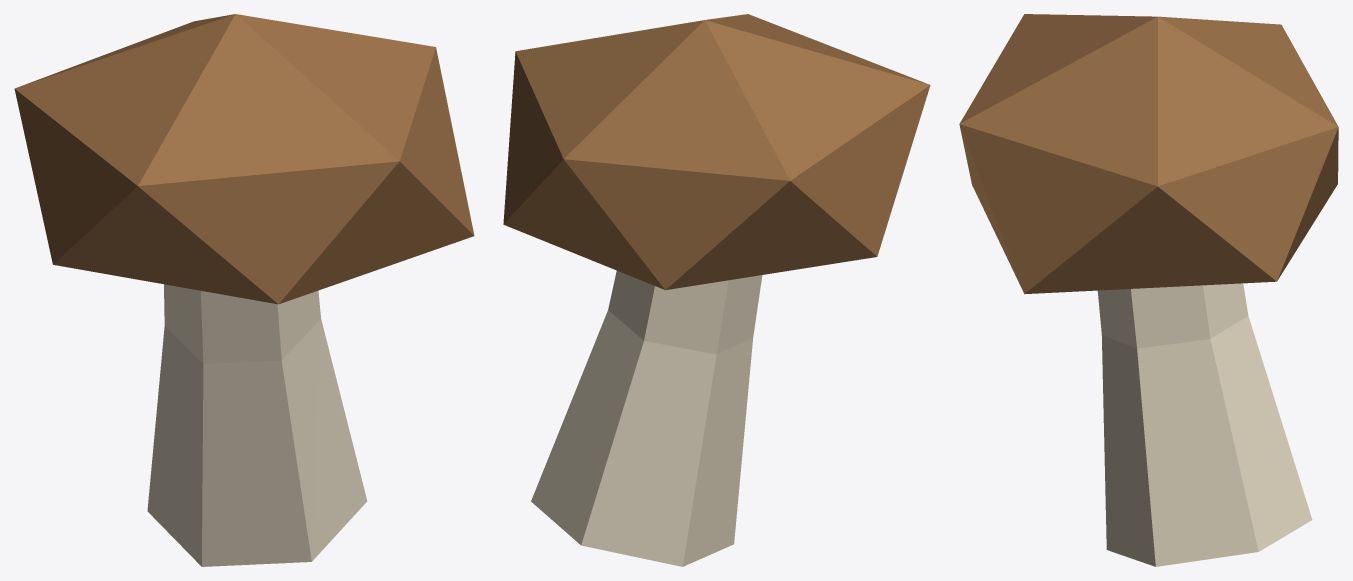
File: HS_LP_Mushroom_Brown_01.fbx
The picture shows the model from 3 angles, left to right: view 1: azimuth 30°, elevation 25°; view 2: azimuth 150°, elevation 25°; view 3: azimuth 270°, elevation 25°; orthographic projection. The views are drawn at different scales.
Parts seen in each view (by area): view 1: HS_LP_Mushroom_Brown_01; view 2: HS_LP_Mushroom_Brown_01; view 3: HS_LP_Mushroom_Brown_01.
Part boxes in pixels (bbox=[...]): HS_LP_Mushroom_Brown_01: bbox=[14, 14, 474, 566]; HS_LP_Mushroom_Brown_01: bbox=[503, 14, 930, 566]; HS_LP_Mushroom_Brown_01: bbox=[959, 14, 1338, 566].
Size of the model in its own units: 20.89 by 28.45 by 18.94.
